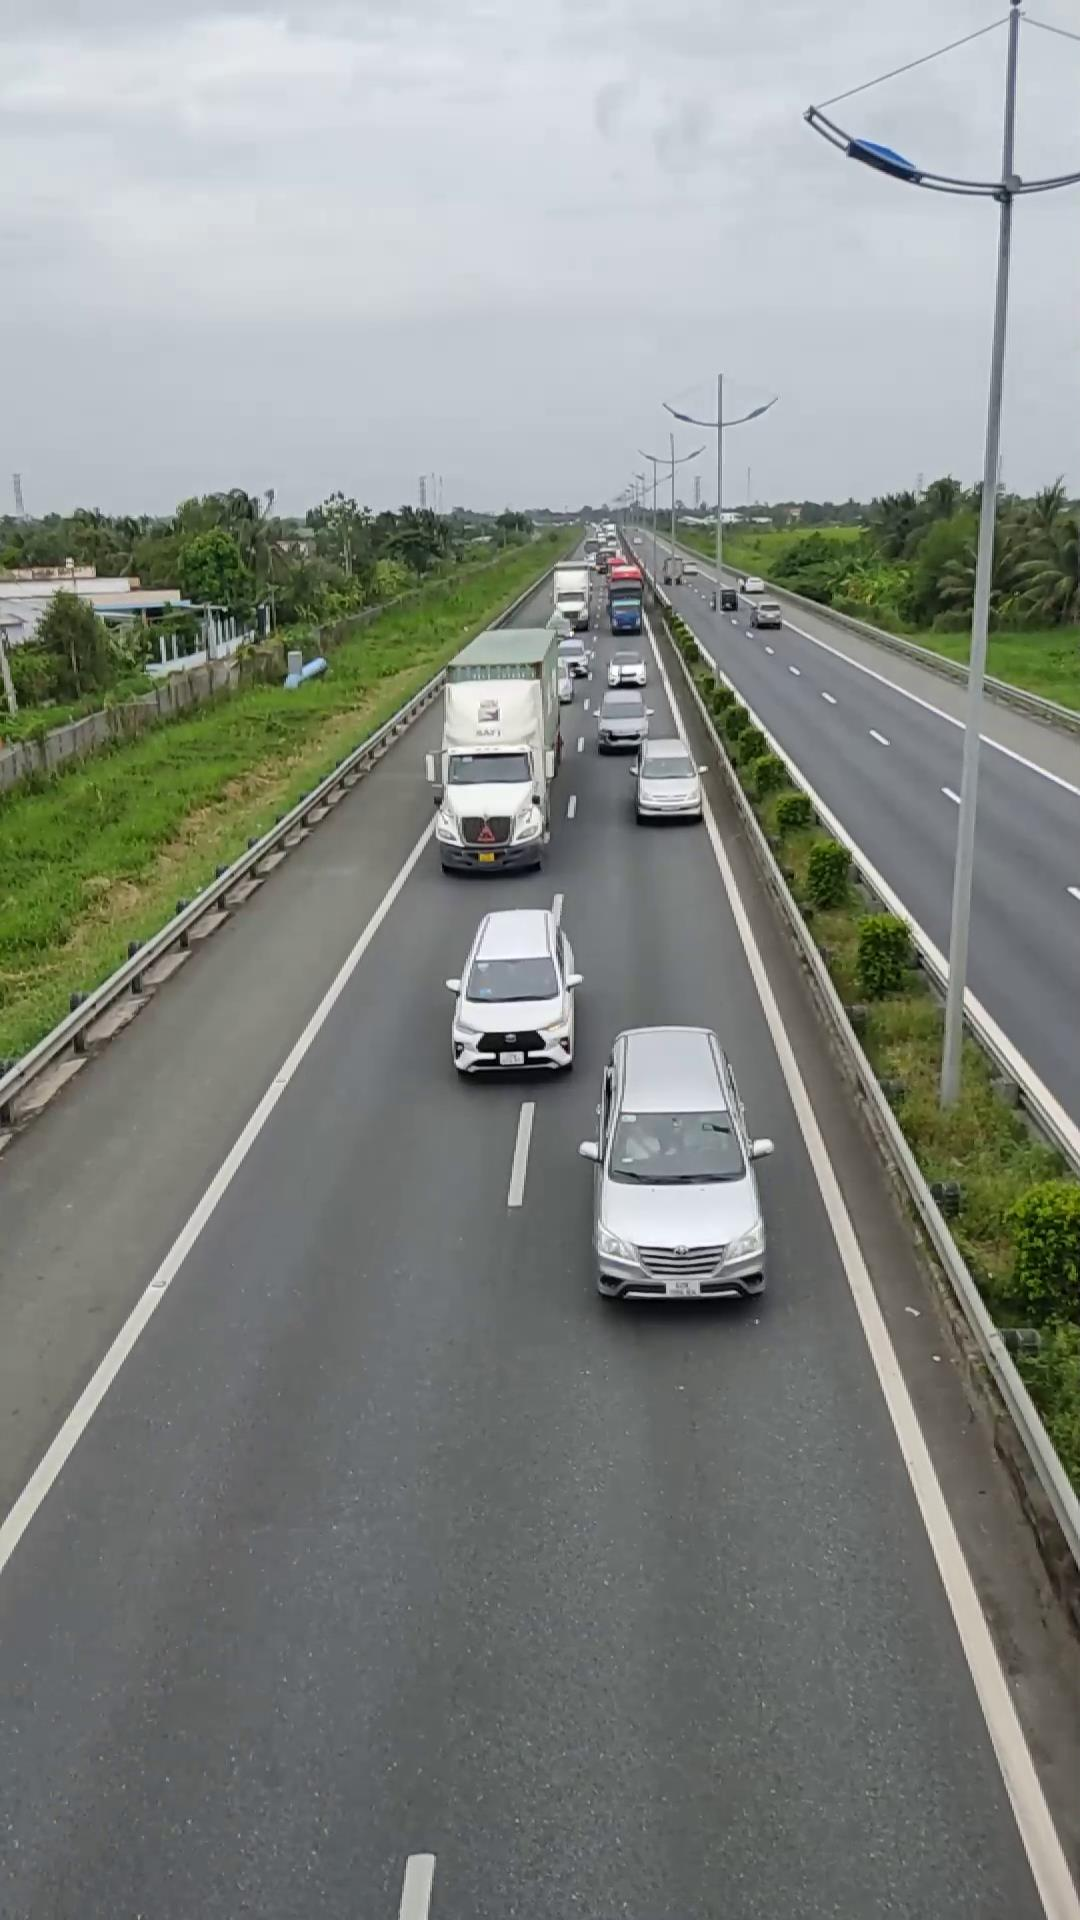car: (582, 1022, 771, 1305), (444, 905, 582, 1077), (632, 738, 705, 822)
container: (429, 626, 564, 876)
